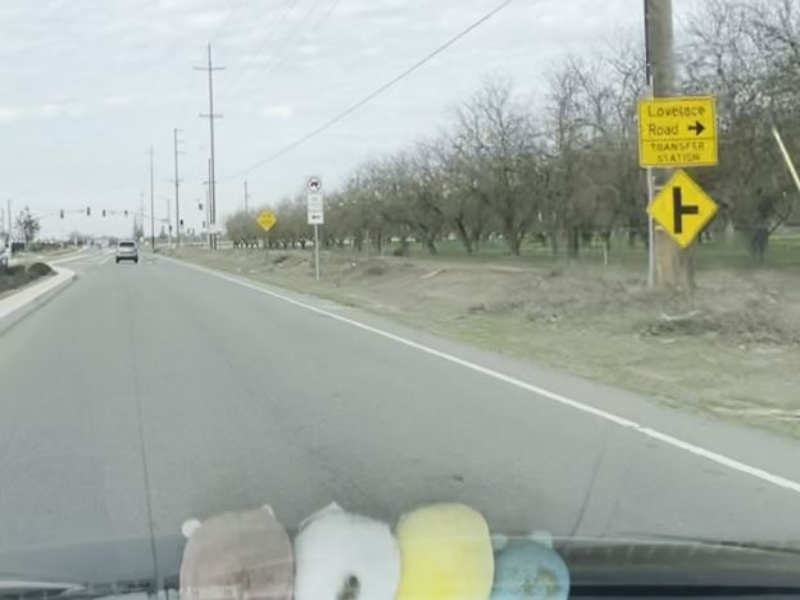t intersection sign: (643, 168, 720, 251)
